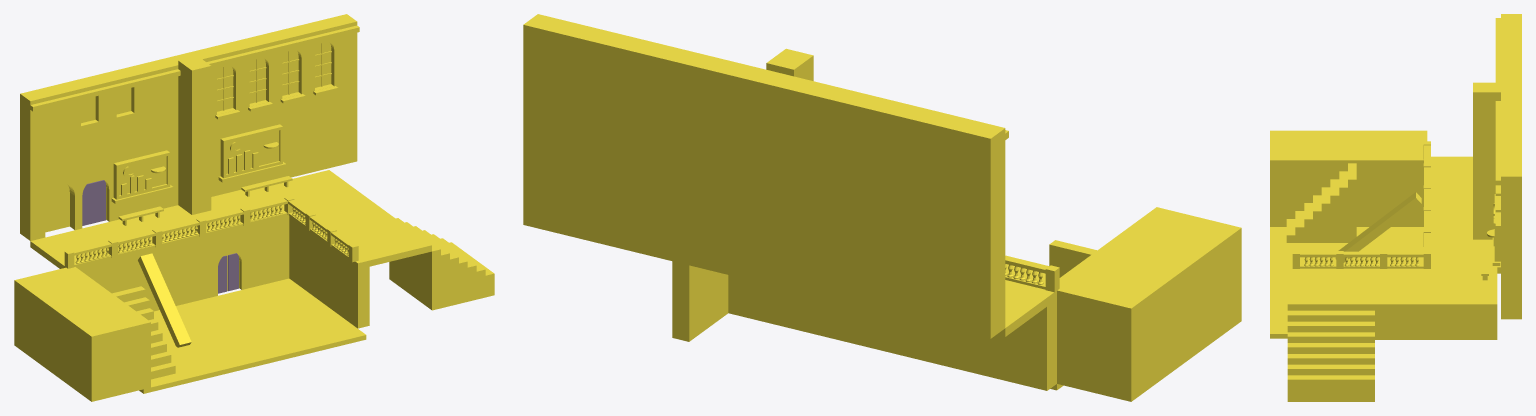
File: terrace.glb
3 renders of one model, left to right at view 1: azimuth 30°, elevation 25°; view 2: azimuth 150°, elevation 25°; view 3: azimuth 270°, elevation 25°, orthographic. The views are drawn at different scales.
Parts seen in each view (by area): view 1: stone, door, relief; view 2: stone; view 3: stone.
Part boxes in pixels (bbox=[...]): stone: bbox=[14, 14, 494, 401]; door: bbox=[82, 180, 238, 293]; relief: bbox=[121, 142, 278, 195]; stone: bbox=[523, 14, 1241, 401]; stone: bbox=[1270, 14, 1521, 401].
Size of the model in its own units: 27.7 by 13.8 by 14.4.
